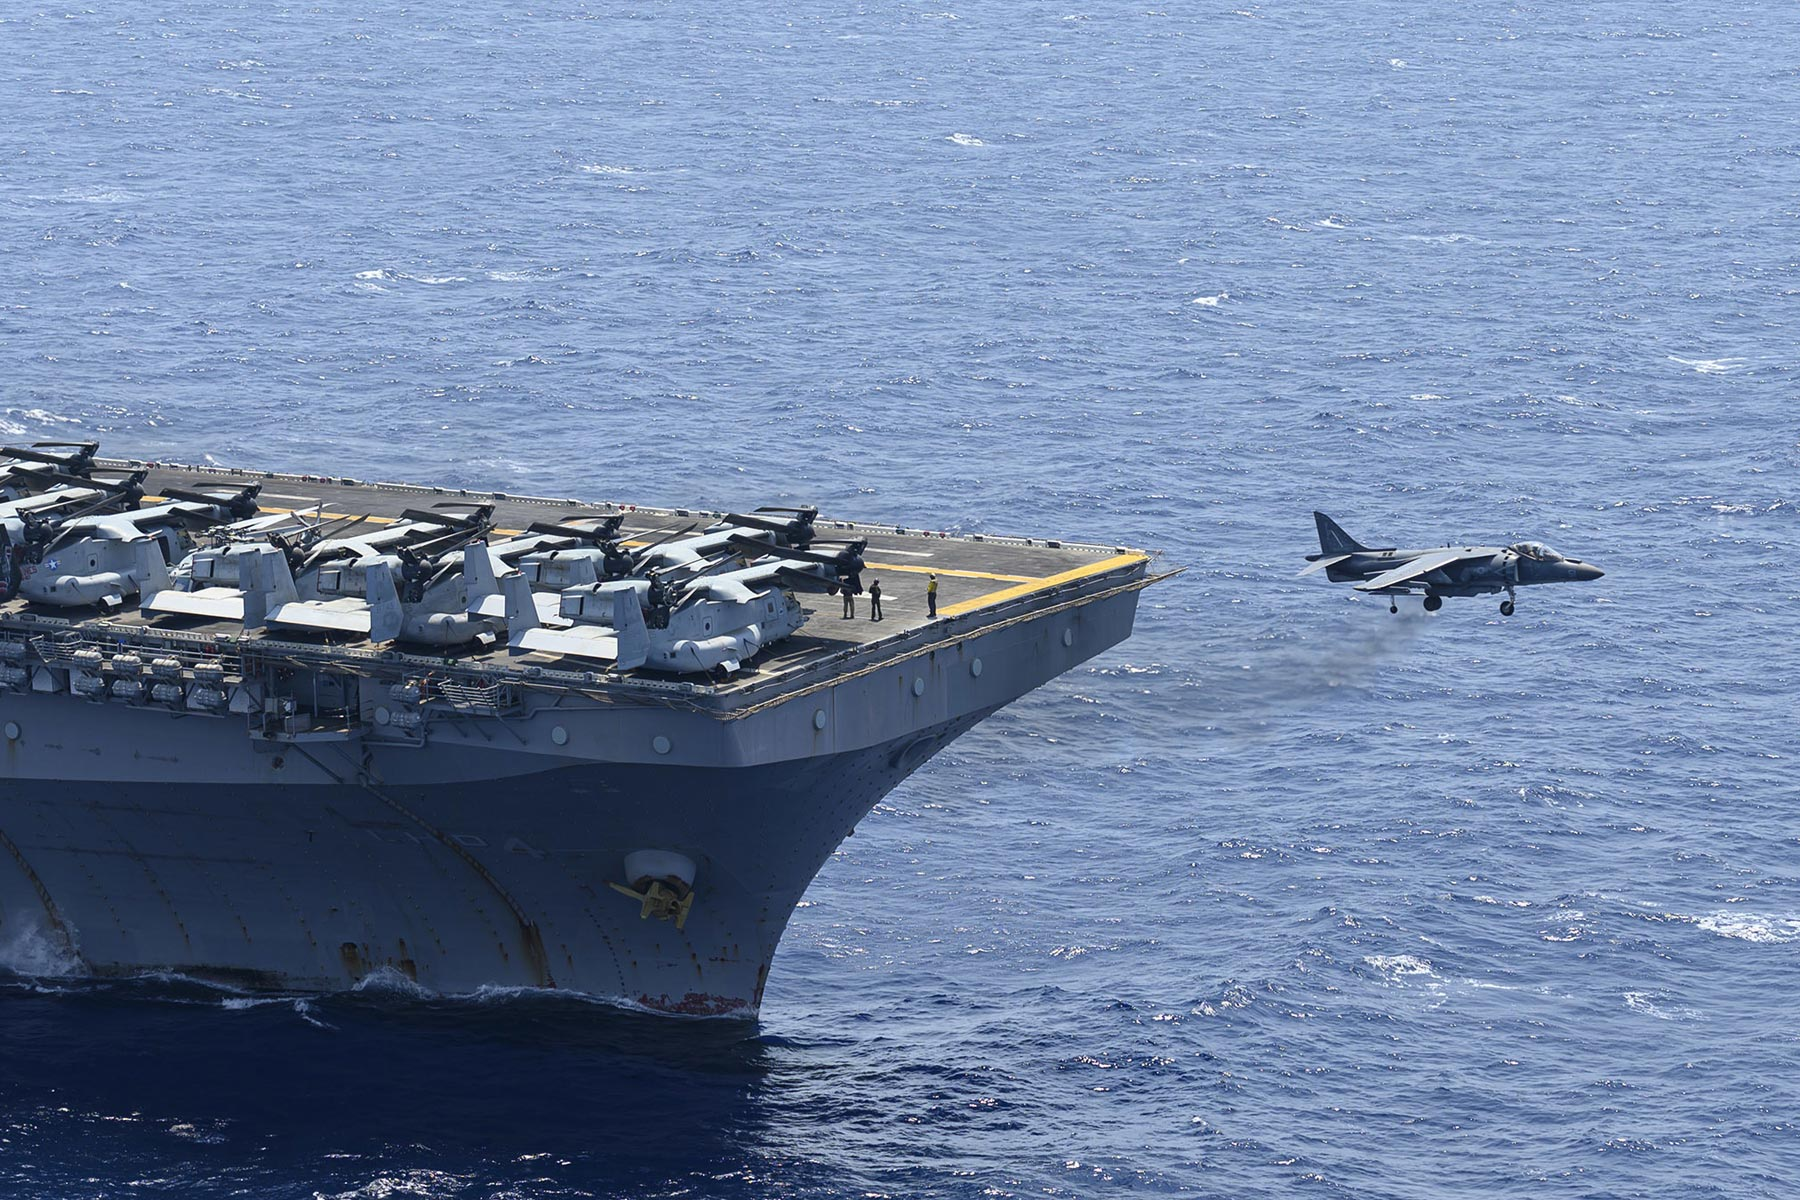rust: (451, 850, 564, 978), (19, 867, 131, 980), (332, 929, 422, 980)
